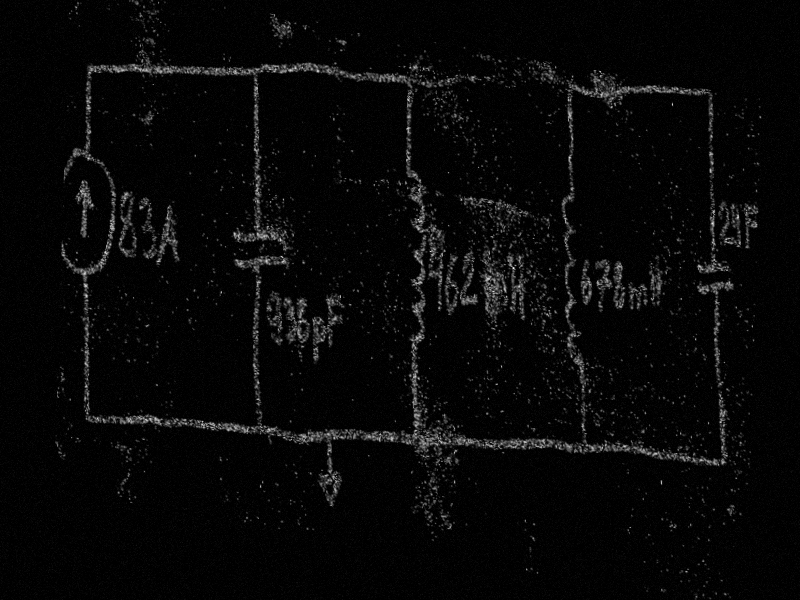2: (457, 248, 481, 311), (715, 198, 733, 248)
3: (136, 195, 159, 263), (281, 292, 298, 347)
4: (425, 240, 446, 315)
6: (440, 247, 462, 320), (577, 256, 595, 310)
7: (590, 255, 615, 318)
8: (117, 187, 139, 263), (610, 257, 628, 314), (294, 292, 312, 347)
9: (263, 286, 285, 351), (728, 201, 744, 251)
A: (156, 197, 183, 269)
F: (323, 292, 345, 352), (740, 199, 758, 253)
H: (505, 252, 529, 323), (646, 256, 664, 311)
m: (479, 268, 510, 316), (625, 278, 650, 316)
p: (309, 314, 328, 370)
